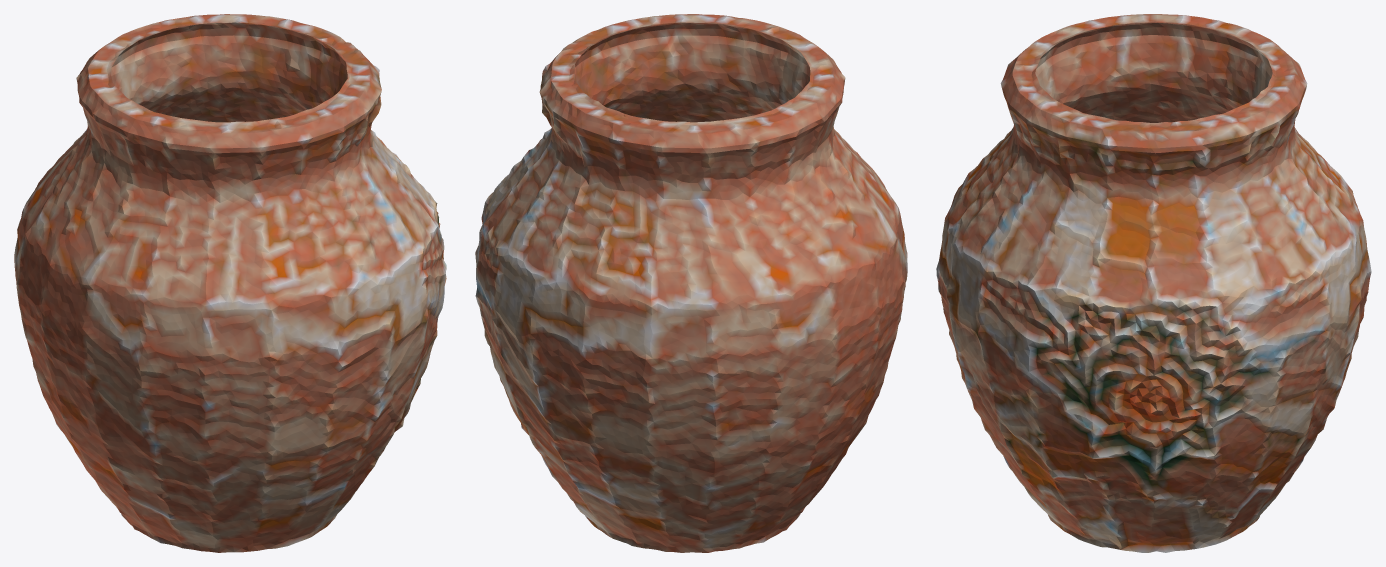
Rendered from mesh_stylized.obj.
The picture shows the model from 3 angles, left to right: view 1: azimuth 30°, elevation 25°; view 2: azimuth 150°, elevation 25°; view 3: azimuth 270°, elevation 25°; orthographic projection.
Bounding box in the file's own units: 1.52 × 1.69 × 1.53.
